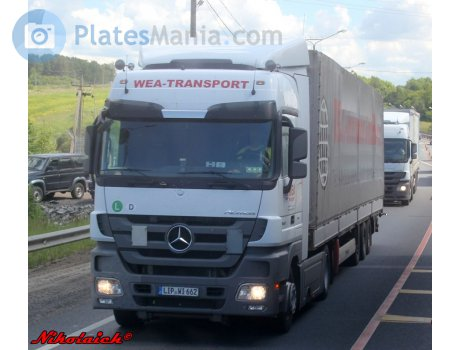License Plates: (161, 283, 195, 294)
